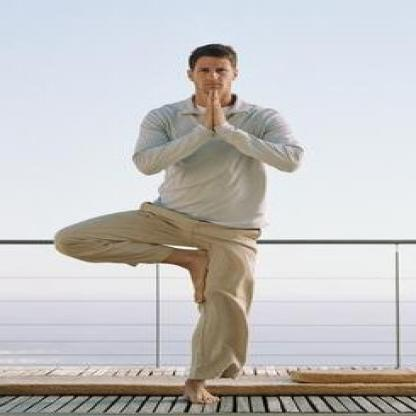tree: (46, 29, 322, 408)
